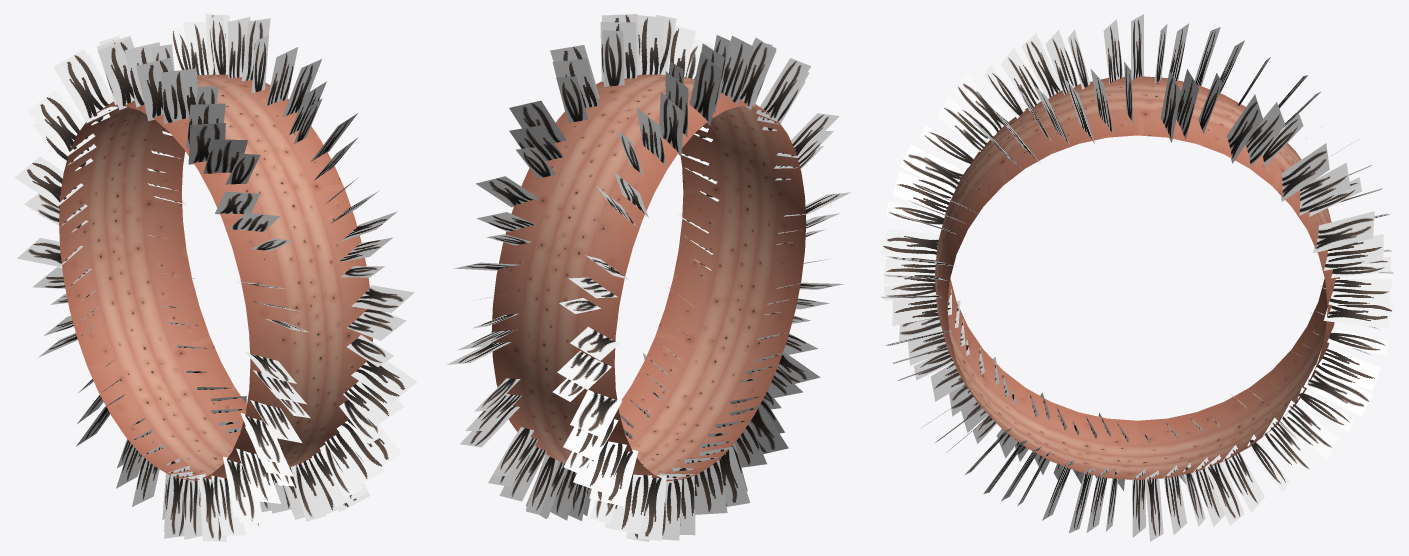
File: head.fbx
3 renders of one model, left to right at view 1: azimuth 30°, elevation 25°; view 2: azimuth 150°, elevation 25°; view 3: azimuth 270°, elevation 25°, orthographic.
Parts seen in each view (by area): view 1: head_ground1; view 2: head_ground1; view 3: head_ground1.
Boxes of the visible parts, x1,y1,x2,y2 form: head_ground1: (14,14,417,541); head_ground1: (447,14,850,541); head_ground1: (880,14,1394,541).
Size of the model in its own units: 168 by 491 by 493.
Materials: 2 (2 with a texture image).
